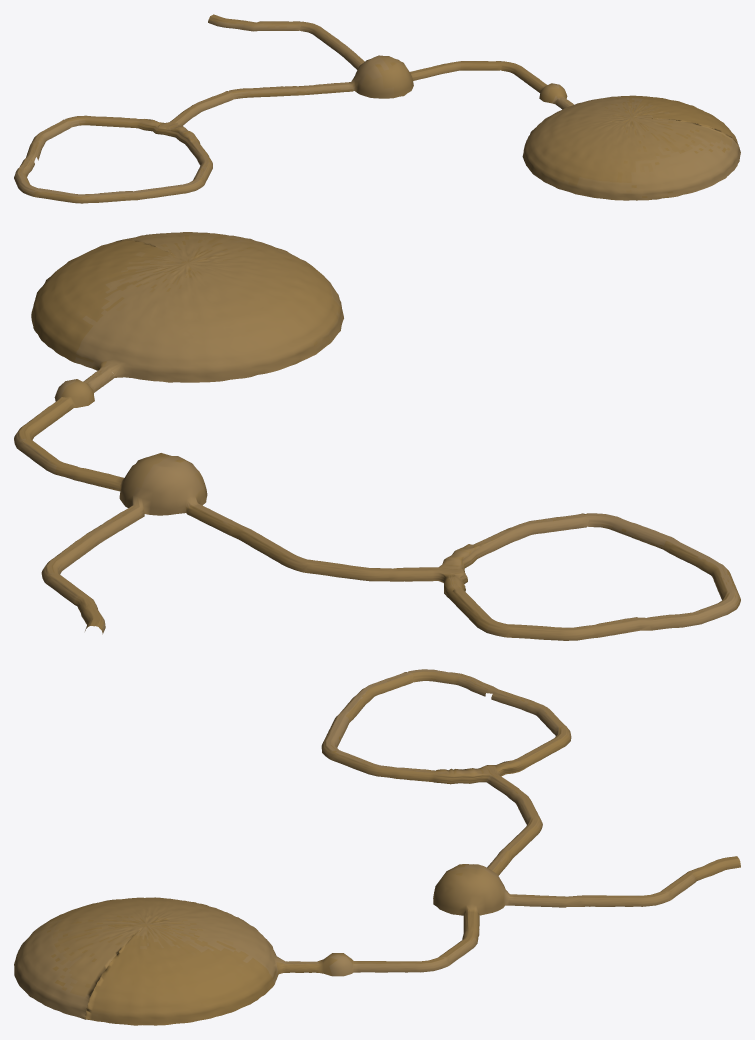
File: final_chamber.fbx
The picture shows the model from 3 angles, top to bottom: view 1: azimuth 30°, elevation 25°; view 2: azimuth 150°, elevation 25°; view 3: azimuth 270°, elevation 25°; orthographic projection. The views are drawn at different scales.
Visible parts, largest first — view 1: Sphere; view 2: Sphere; view 3: Sphere.
Part boxes in pixels (x1,y1,x2,y2): Sphere: [14, 14, 740, 203]; Sphere: [14, 232, 740, 640]; Sphere: [14, 669, 740, 1025].
Bounding box in the file's own units: 51894 × 3638 × 59320.
